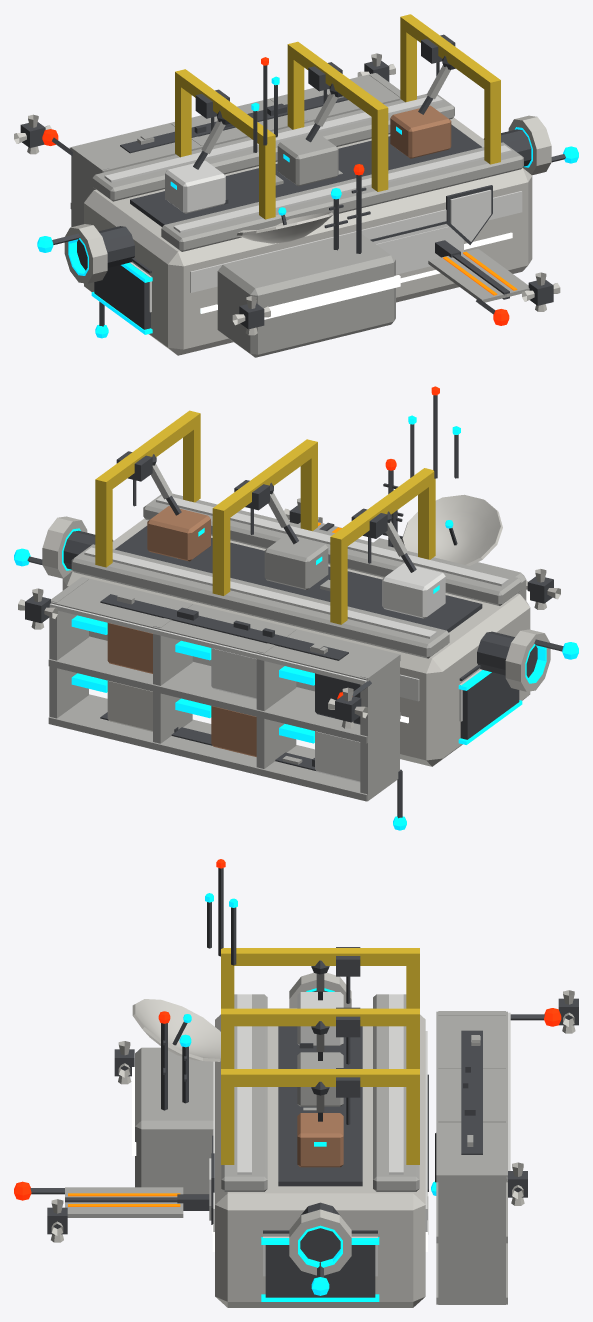
The model's file is systems_works.glb.
3 views of the same model, one above another, from view 1: azimuth 30°, elevation 25°; view 2: azimuth 150°, elevation 25°; view 3: azimuth 270°, elevation 25° (orthographic). The views are drawn at different scales.
Visible parts, largest first — view 1: systems_works; view 2: systems_works; view 3: systems_works.
Part boxes in pixels (x1,y1,x2,y2): systems_works: (14, 14, 578, 357); systems_works: (14, 386, 578, 830); systems_works: (14, 859, 578, 1307).
Bounding box in the file's own units: 1.92 × 1.14 × 1.57.
